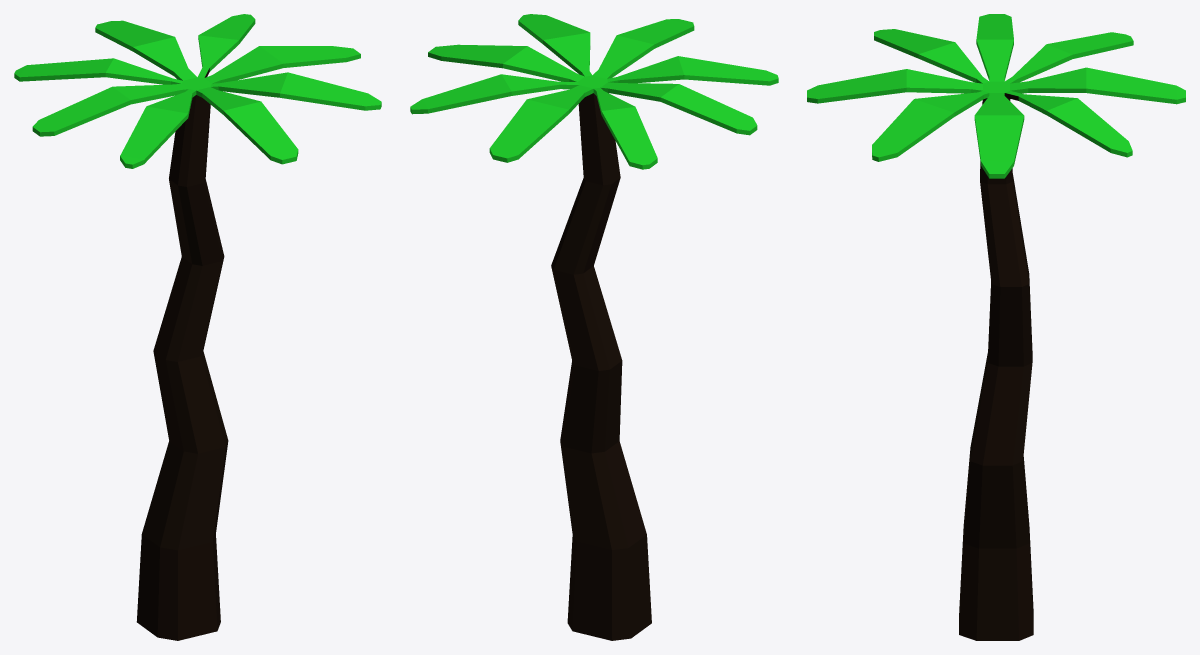
The model's file is tree_4.FBX.
3 renders of one model, left to right at view 1: azimuth 30°, elevation 25°; view 2: azimuth 150°, elevation 25°; view 3: azimuth 270°, elevation 25°, orthographic. The views are drawn at different scales.
Visible parts, largest first — view 1: Box001; view 2: Box001; view 3: Box001.
Part boxes in pixels (box(x1,y1,x2,y2)): Box001: box(14, 14, 381, 640); Box001: box(410, 14, 778, 640); Box001: box(807, 14, 1185, 640).
Bounding box in the file's own units: 139 × 225 × 139.
